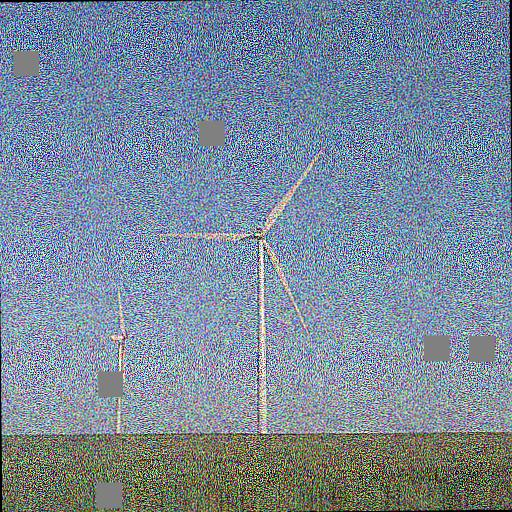wind turbine: (158, 145, 326, 432), (106, 286, 137, 436)
